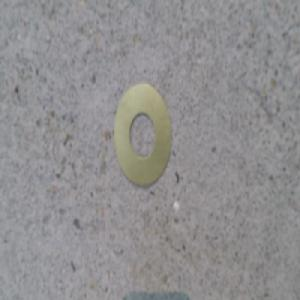Washer: (111, 80, 171, 188)
